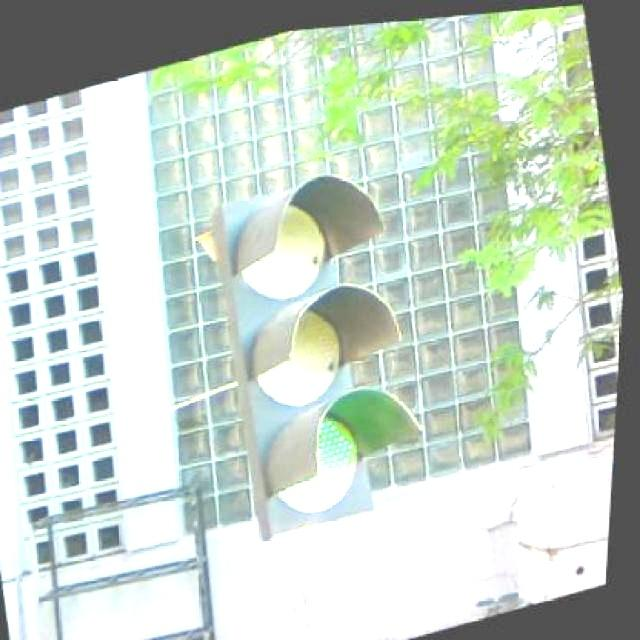Green: (212, 182, 406, 540)
